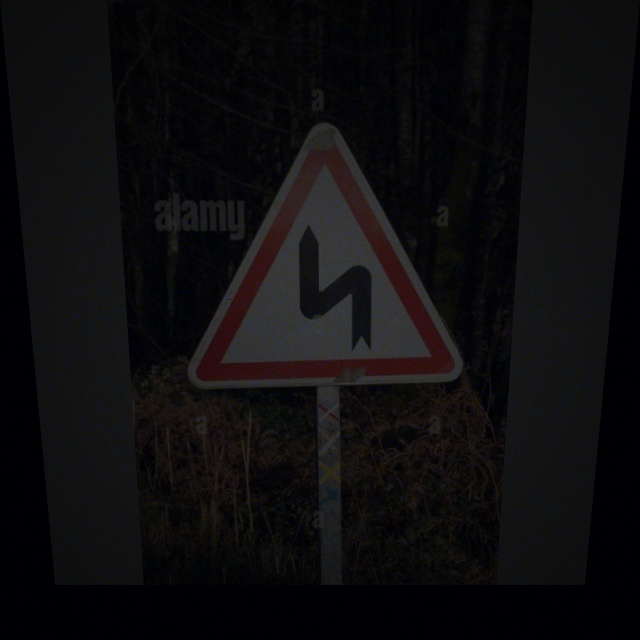Left_Reverse_Bend: (177, 125, 481, 391)
